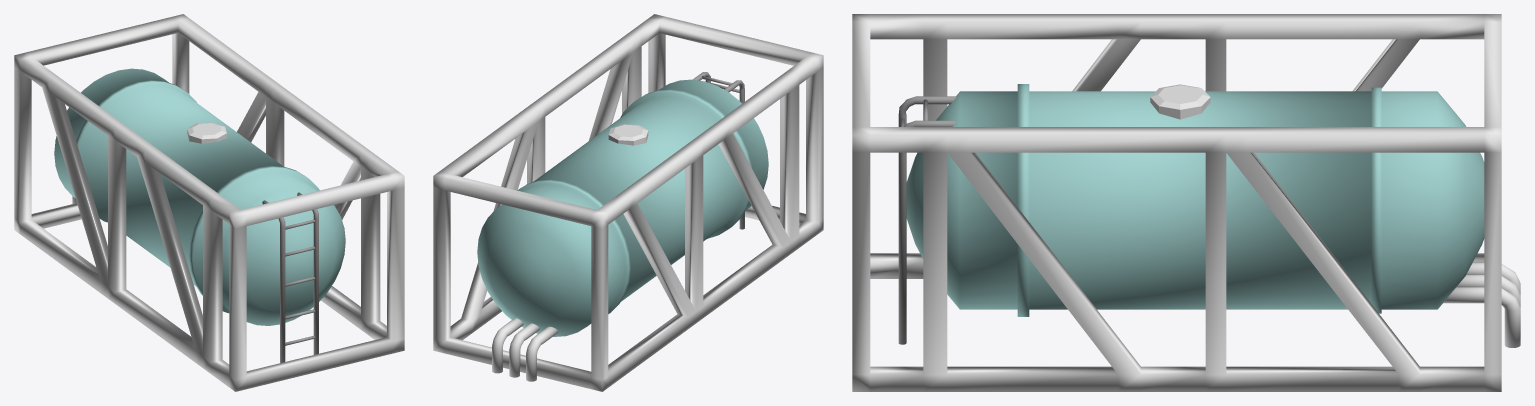
The model's file is gas_tank.fbx.
3 views of the same model, side by side, from view 1: azimuth 30°, elevation 25°; view 2: azimuth 150°, elevation 25°; view 3: azimuth 270°, elevation 25° (orthographic). The views are drawn at different scales.
Visible parts, largest first — view 1: Cube.001, Cylinder, Cylinder.004, Cylinder.008; view 2: Cube.001, Cylinder, Cylinder.008, Cylinder.011, Cylinder.010, Cylinder.009, Cylinder.004; view 3: Cube.001, Cylinder, Cylinder.004, Cylinder.008, Cylinder.009, Cylinder.010.
Boxes of the visible parts, x1,y1,x2,y2 form: Cube.001: (14,14,404,391); Cylinder: (54,68,345,325); Cylinder.004: (262,192,318,362); Cylinder.008: (187,122,226,143); Cube.001: (433,14,823,391); Cylinder: (477,79,768,336); Cylinder.008: (608,124,648,145); Cylinder.011: (526,326,558,381); Cylinder.010: (509,323,539,377); Cylinder.009: (492,317,523,373); Cylinder.004: (693,72,744,229); Cube.001: (852,14,1501,391); Cylinder: (906,84,1484,316); Cylinder.004: (898,96,956,344); Cylinder.008: (1150,84,1210,119); Cylinder.009: (1443,287,1520,347); Cylinder.010: (1456,275,1520,306).
Size of the model in its own units: 2.63 by 2.61 by 6.12.
